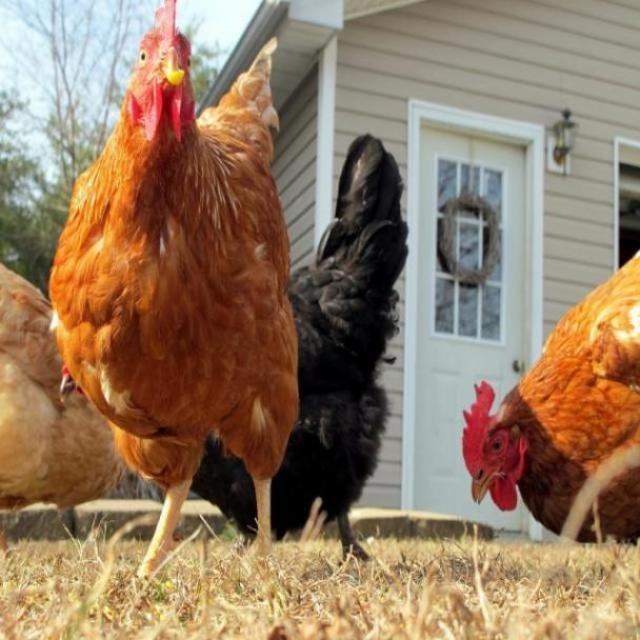Chicken: (53, 132, 416, 570), (47, 0, 300, 448), (460, 245, 640, 547), (0, 254, 127, 537)
